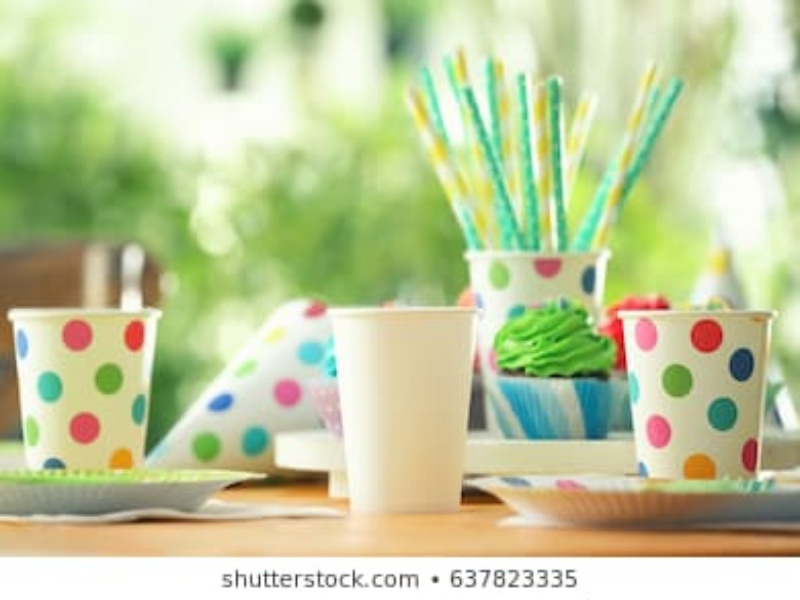plastic-cup: (611, 305, 789, 491), (335, 301, 488, 511), (6, 299, 167, 470)
straw: (585, 74, 686, 247), (396, 81, 493, 250), (419, 60, 490, 256), (593, 62, 659, 260), (544, 74, 575, 254), (510, 67, 535, 254)
